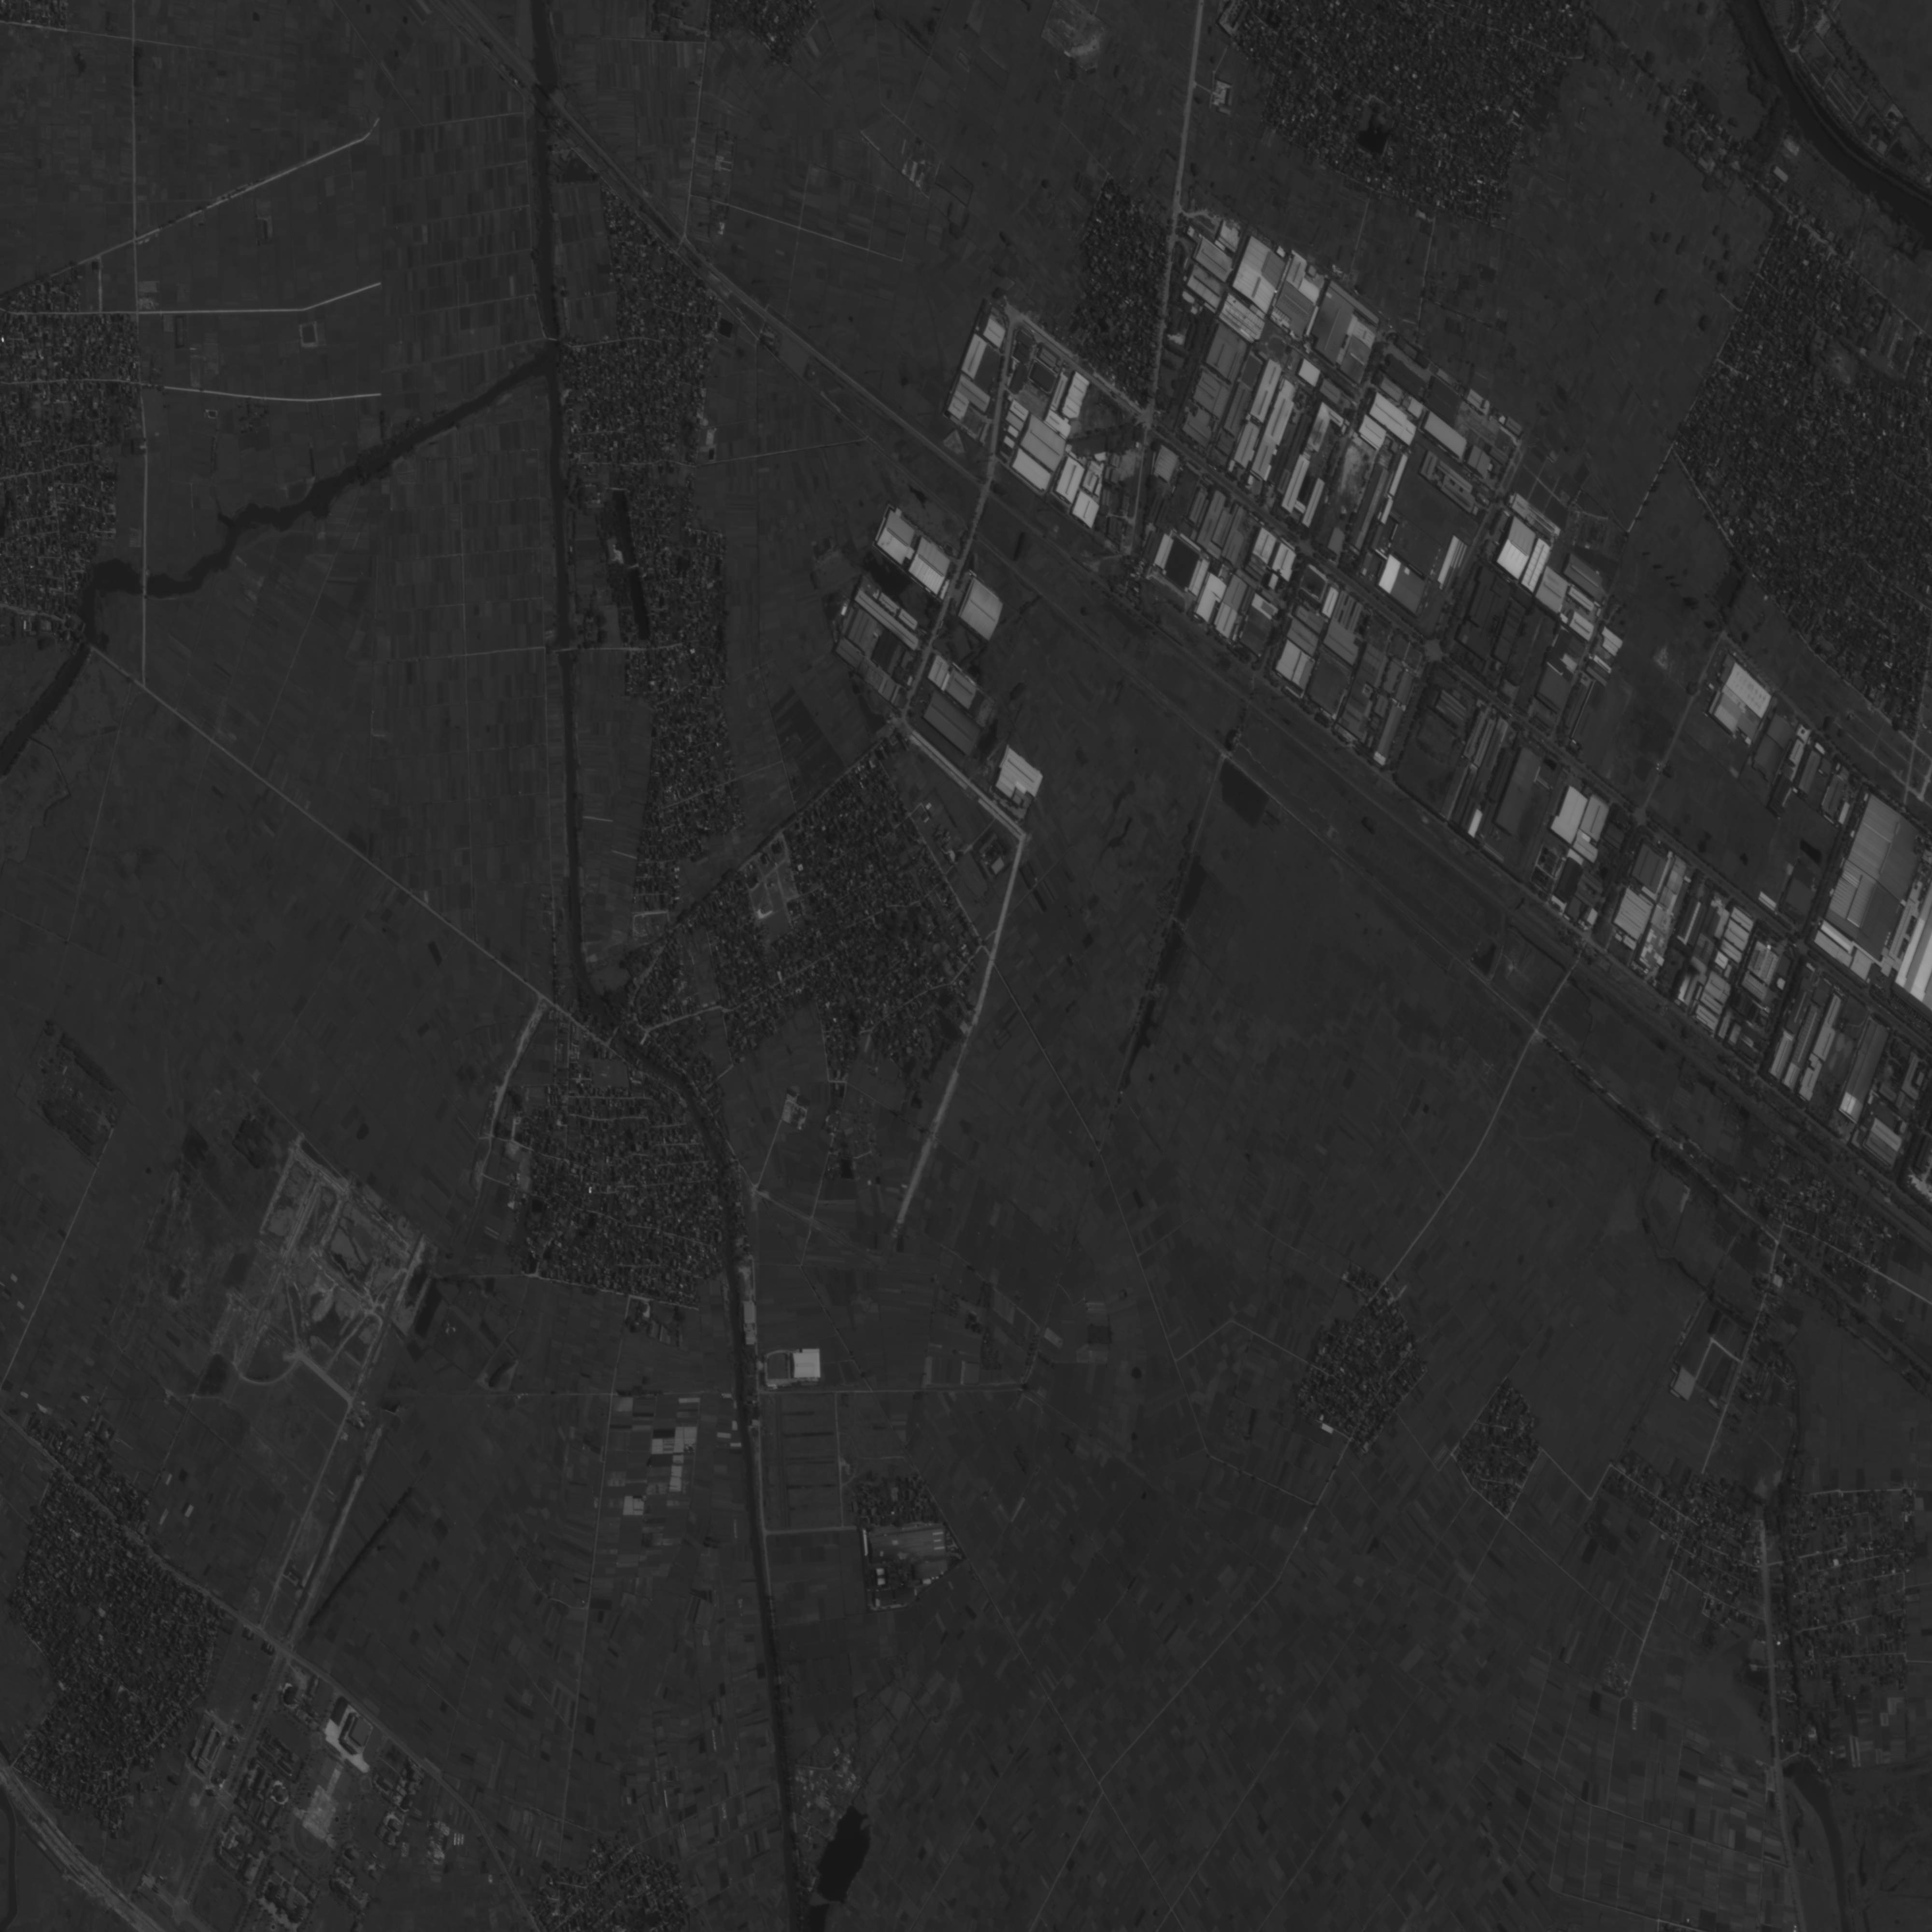bridge: (527, 94, 552, 119), (536, 81, 556, 101), (142, 568, 149, 598), (547, 336, 559, 343), (559, 648, 571, 653)
